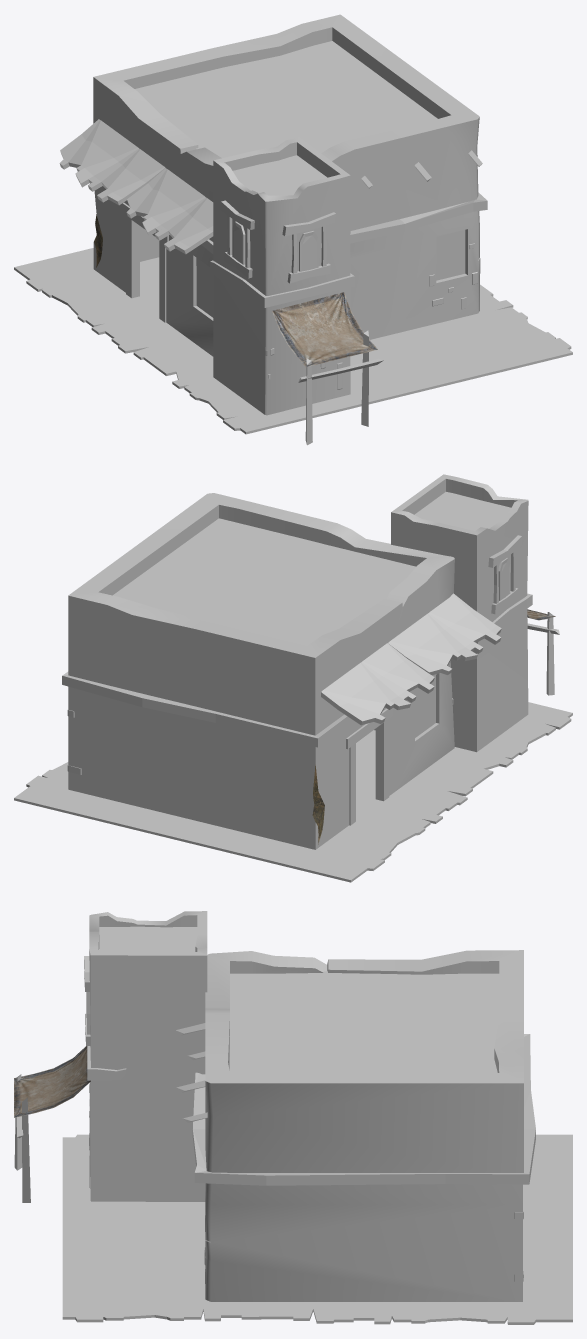
Rendered from ManChengJianZhu01.FBX.
3 renders of one model, top to bottom at view 1: azimuth 30°, elevation 25°; view 2: azimuth 150°, elevation 25°; view 3: azimuth 270°, elevation 25°, orthographic. The views are drawn at different scales.
Visible parts, largest first — view 1: ManChengJianZhu01_wuding, ManChengJianZhu01_dimian, ManChengJianZhu01_gelou, ManChengJianZhu01_wall, ManChengJianZhu01_wujian02, ManChengJianZhu01_bu, ManChengJianZhu01_wujian01, ManChengJianZhu01_men, ManChengJianZhu01_wujian; view 2: ManChengJianZhu01_wuding, ManChengJianZhu01_wall, ManChengJianZhu01_dimian, ManChengJianZhu01_gelou, ManChengJianZhu01_wujian02, ManChengJianZhu01_wujian01, ManChengJianZhu01_men, ManChengJianZhu01_wujian; view 3: ManChengJianZhu01_wuding, ManChengJianZhu01_wall, ManChengJianZhu01_dimian, ManChengJianZhu01_gelou, ManChengJianZhu01_wujian01, ManChengJianZhu01_bu, ManChengJianZhu01_wujian, ManChengJianZhu01_wujian02.
Boxes of the visible parts, x1,y1,x2,y2 form: ManChengJianZhu01_wuding: [93, 14, 479, 241]; ManChengJianZhu01_dimian: [14, 230, 572, 434]; ManChengJianZhu01_gelou: [210, 137, 354, 415]; ManChengJianZhu01_wall: [93, 186, 480, 356]; ManChengJianZhu01_wujian02: [59, 119, 482, 283]; ManChengJianZhu01_bu: [272, 292, 377, 367]; ManChengJianZhu01_wujian01: [201, 192, 487, 254]; ManChengJianZhu01_men: [122, 202, 168, 322]; ManChengJianZhu01_wujian: [298, 330, 383, 445]; ManChengJianZhu01_wuding: [68, 493, 454, 735]; ManChengJianZhu01_wall: [67, 661, 454, 849]; ManChengJianZhu01_dimian: [14, 675, 572, 882]; ManChengJianZhu01_gelou: [391, 474, 532, 752]; ManChengJianZhu01_wujian02: [321, 535, 521, 725]; ManChengJianZhu01_wujian01: [62, 671, 353, 747]; ManChengJianZhu01_men: [346, 708, 392, 825]; ManChengJianZhu01_wujian: [527, 612, 559, 695]; ManChengJianZhu01_wuding: [205, 950, 523, 1172]; ManChengJianZhu01_wall: [204, 1049, 523, 1301]; ManChengJianZhu01_dimian: [62, 1134, 572, 1324]; ManChengJianZhu01_gelou: [87, 911, 207, 1201]; ManChengJianZhu01_wujian01: [192, 1034, 535, 1185]; ManChengJianZhu01_bu: [14, 1046, 90, 1117]; ManChengJianZhu01_wujian: [14, 1074, 30, 1202]; ManChengJianZhu01_wujian02: [84, 956, 207, 1122].
Bounding box in the file's own units: 527 × 329 × 655.
